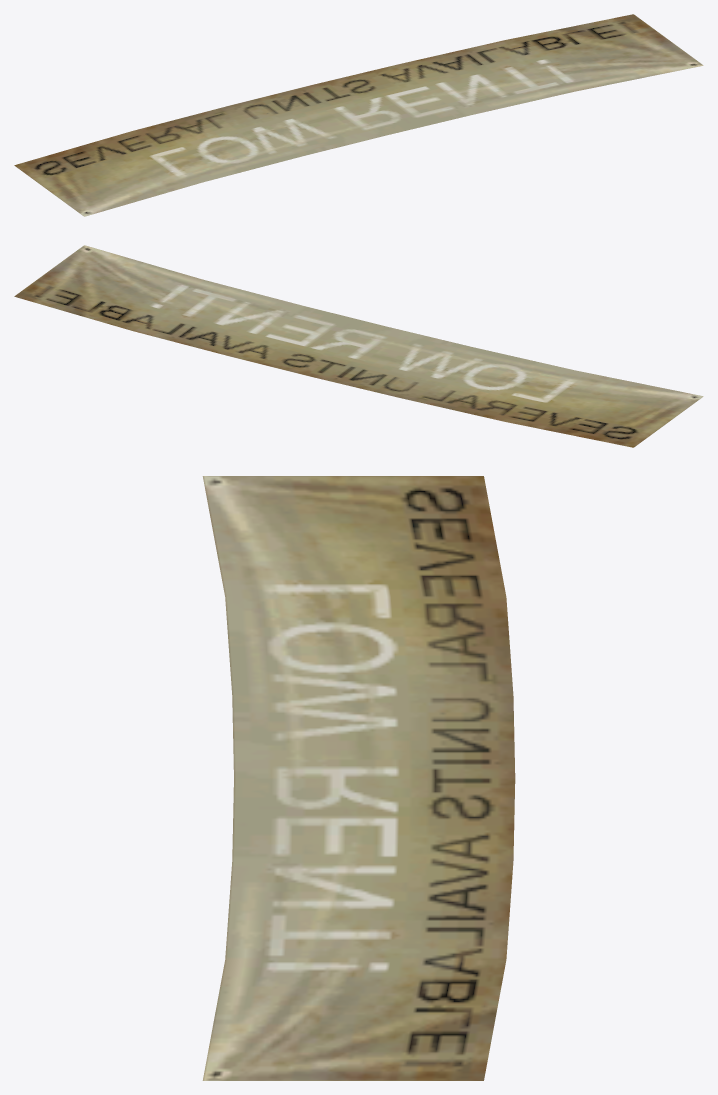
File: banner3.fbx
3 renders of one model, top to bottom at view 1: azimuth 30°, elevation 25°; view 2: azimuth 150°, elevation 25°; view 3: azimuth 270°, elevation 25°, orthographic. The views are drawn at different scales.
Parts seen in each view (by area): view 1: mesh_0; view 2: mesh_0; view 3: mesh_0.
Part boxes in pixels (x1,y1,x2,y2): mesh_0: [14, 14, 703, 216]; mesh_0: [14, 245, 703, 447]; mesh_0: [202, 476, 515, 1080].
Bounding box in the file's own units: 400 × 0 × 87.36.
1 material, 1 textured.
